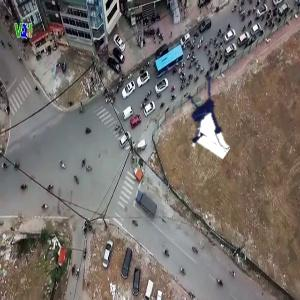drone: (168, 69, 250, 151)
